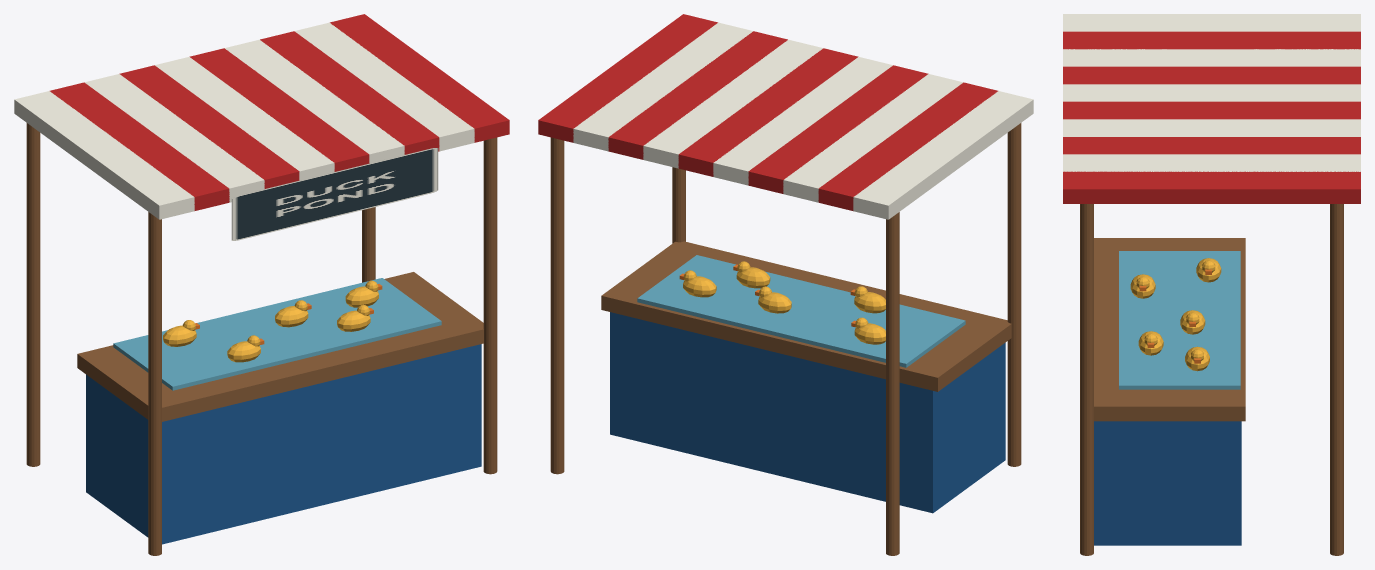
Rendered from scendance-plan-duck-pond-booth.glb.
The picture shows the model from 3 angles, left to right: view 1: azimuth 30°, elevation 25°; view 2: azimuth 150°, elevation 25°; view 3: azimuth 270°, elevation 25°; orthographic projection. The views are drawn at different scales.
Bounding box in the file's own units: 2.59 × 2.53 × 1.87.
Materials: 8 (1 with a texture image).
